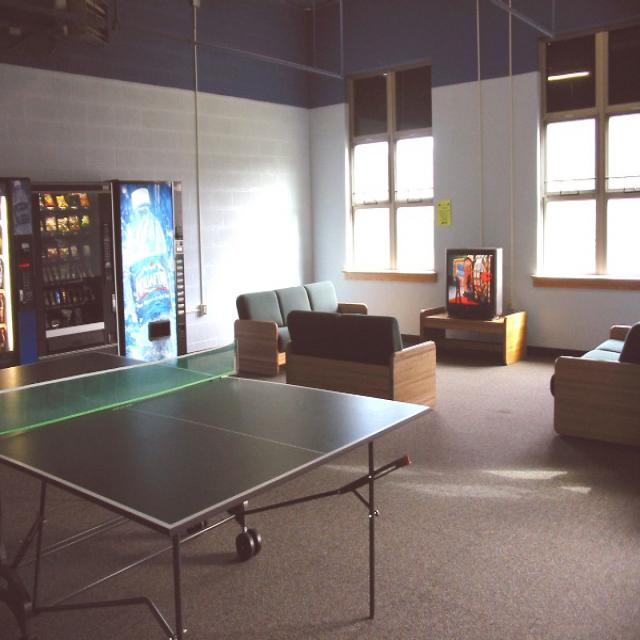2001: (539, 15, 638, 278), (344, 57, 433, 271)
floor -X: (1, 334, 639, 638)
sofa: (284, 310, 434, 405), (233, 278, 366, 373)
sofa cushion: (550, 320, 639, 445)
table -X: (418, 302, 526, 365)
table top kitchen: (1, 341, 431, 638)
tv camera: (445, 246, 505, 315)
vending machine: (30, 178, 118, 358), (103, 179, 187, 362), (0, 177, 40, 366)
wall clock: (310, 0, 639, 361)
